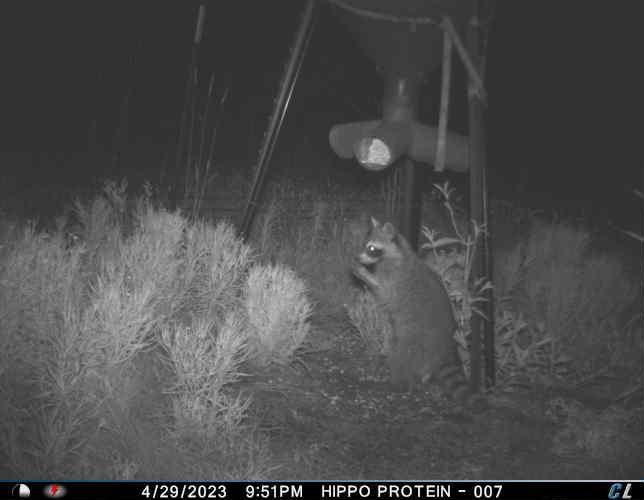Raccoon: (351, 213, 490, 414)
